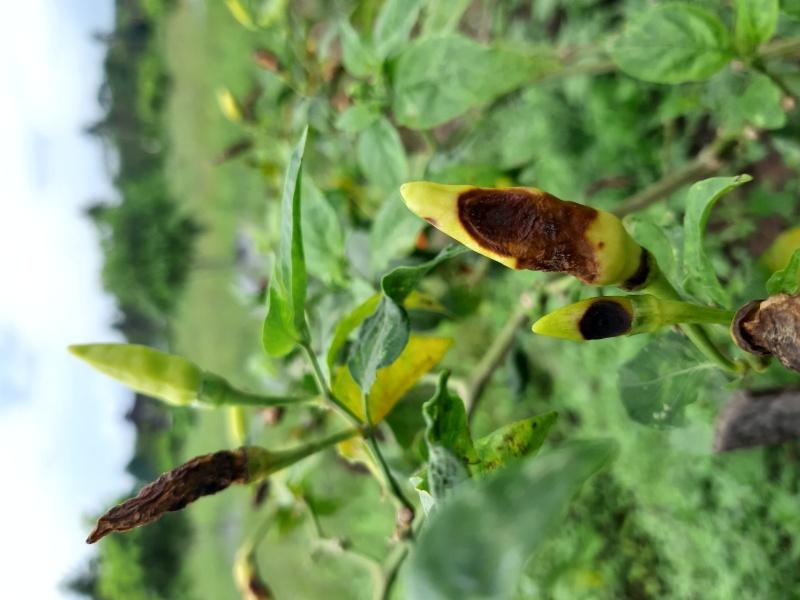antraknosa: (401, 182, 640, 288), (84, 450, 247, 544), (532, 297, 639, 345), (747, 294, 800, 371)
cabai_normal: (68, 340, 202, 404)
